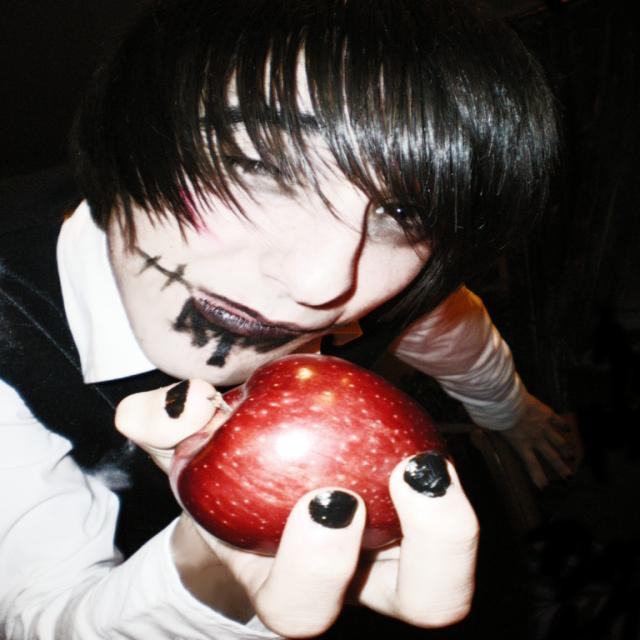Healty Apple: (161, 351, 476, 594)
